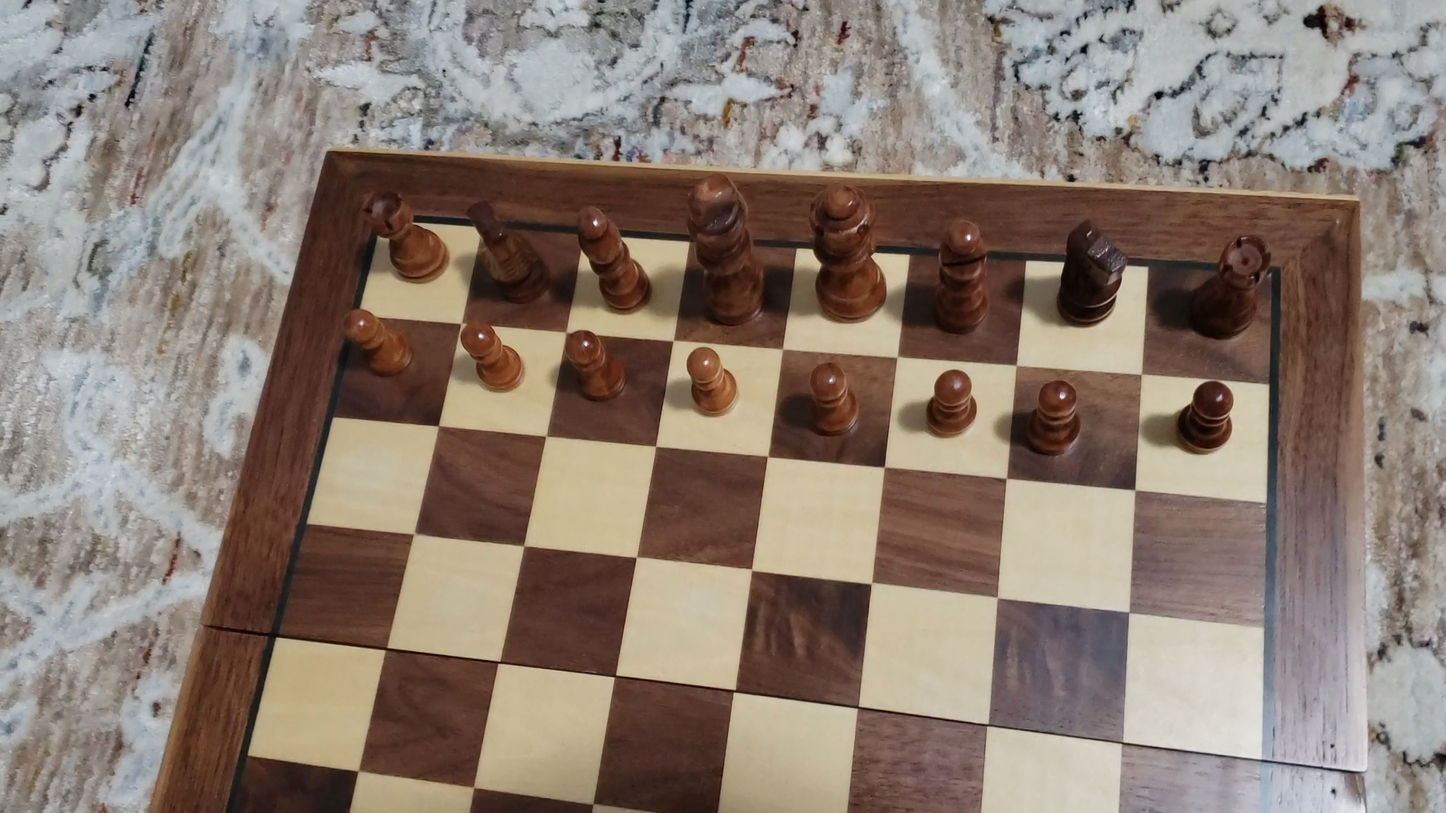black-bishop: (573, 199, 651, 315), (933, 215, 992, 335)
black-king: (683, 169, 768, 329)
black-knight: (1053, 213, 1131, 327), (465, 198, 547, 304)
black-pawn: (1172, 378, 1238, 457), (342, 305, 412, 379), (1022, 377, 1084, 460), (458, 320, 524, 395), (564, 327, 627, 404), (805, 357, 862, 440), (684, 343, 739, 418), (923, 366, 978, 440)
black-queen: (804, 177, 890, 324)
black-rook: (1186, 233, 1273, 343), (359, 189, 450, 282)
